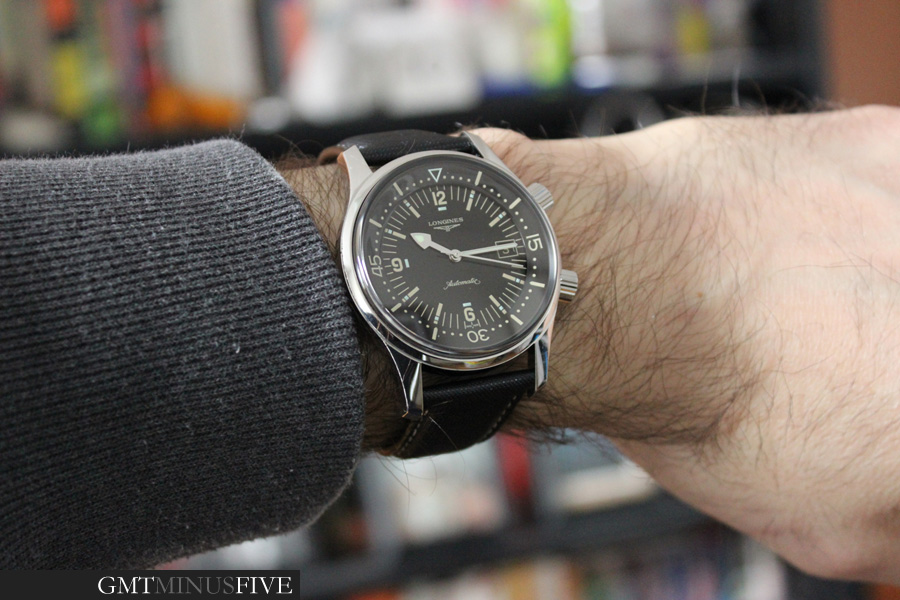clock: (359, 152, 560, 359)
